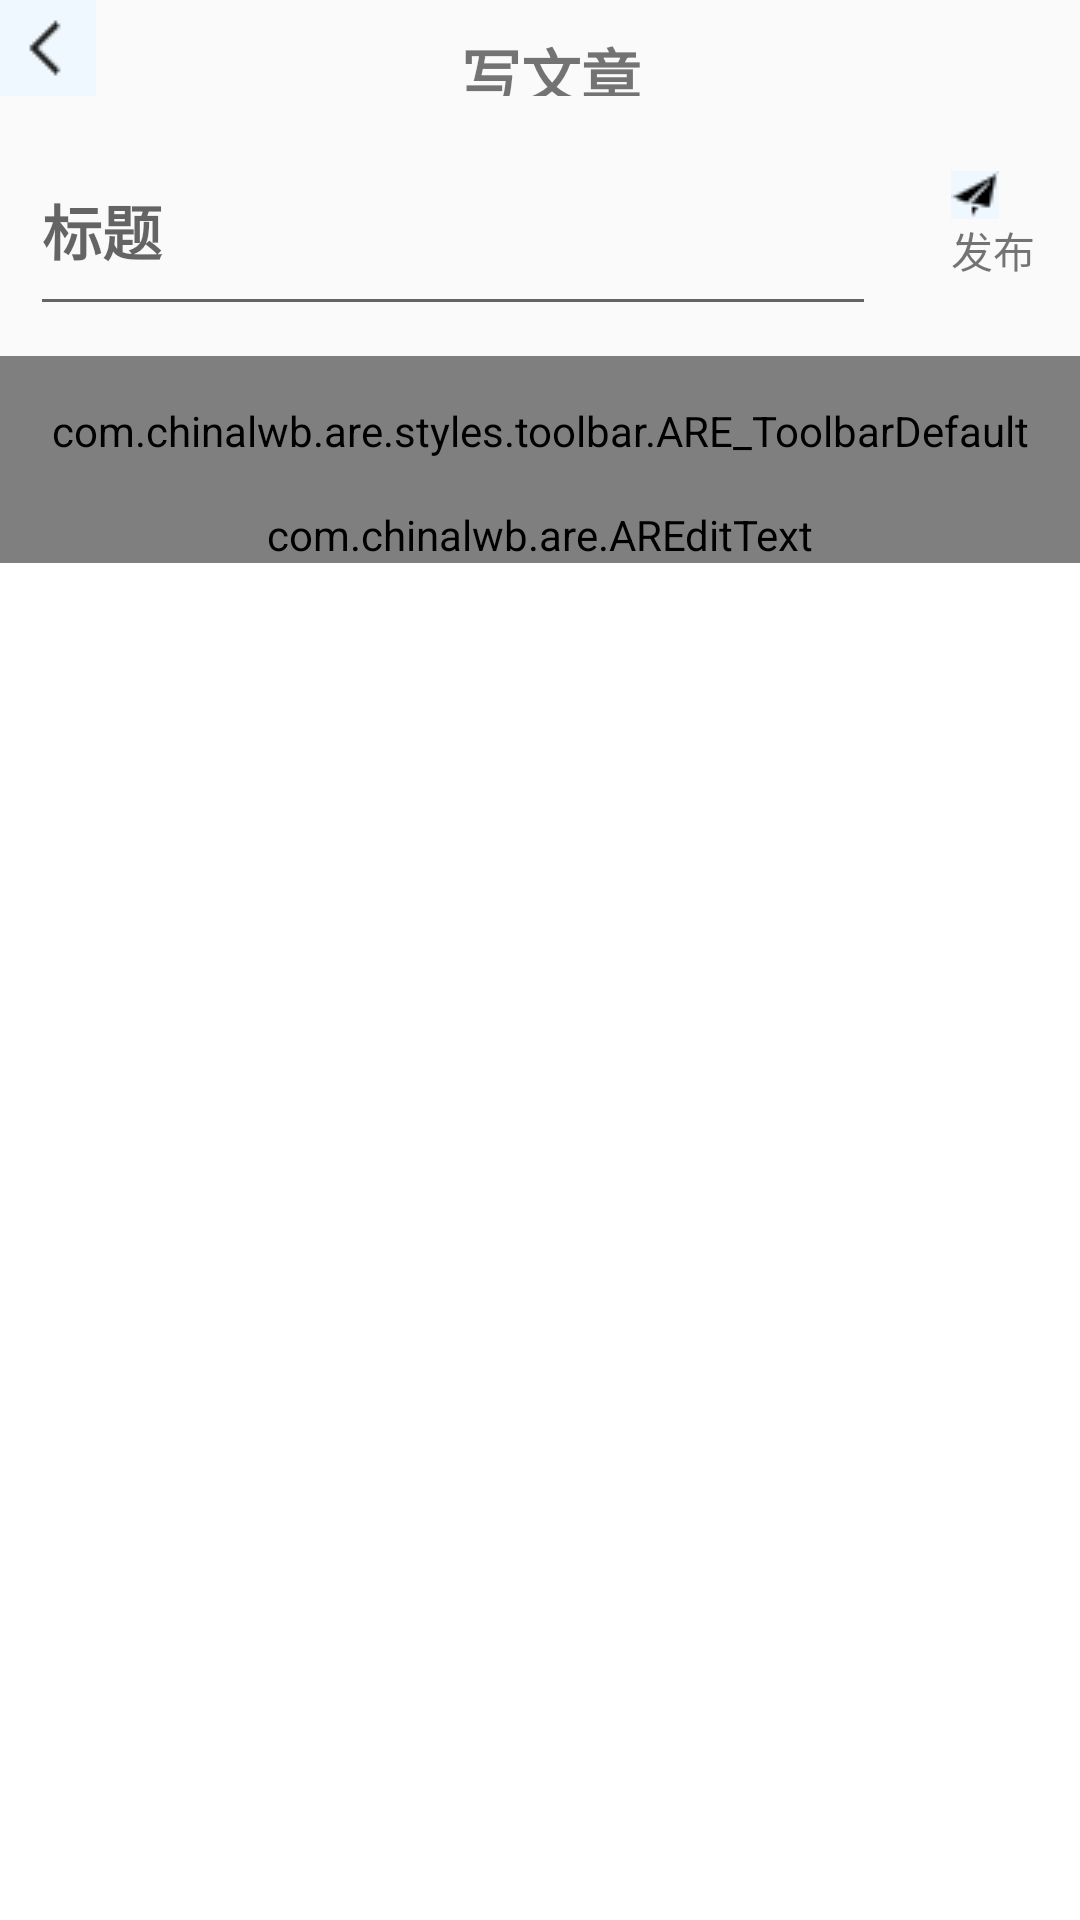

Icons on this 1080×1920 Android screen, each with its box as bbox=(x1, y1, x2, y2):
arrow left: bbox=(0, 0, 96, 96)
